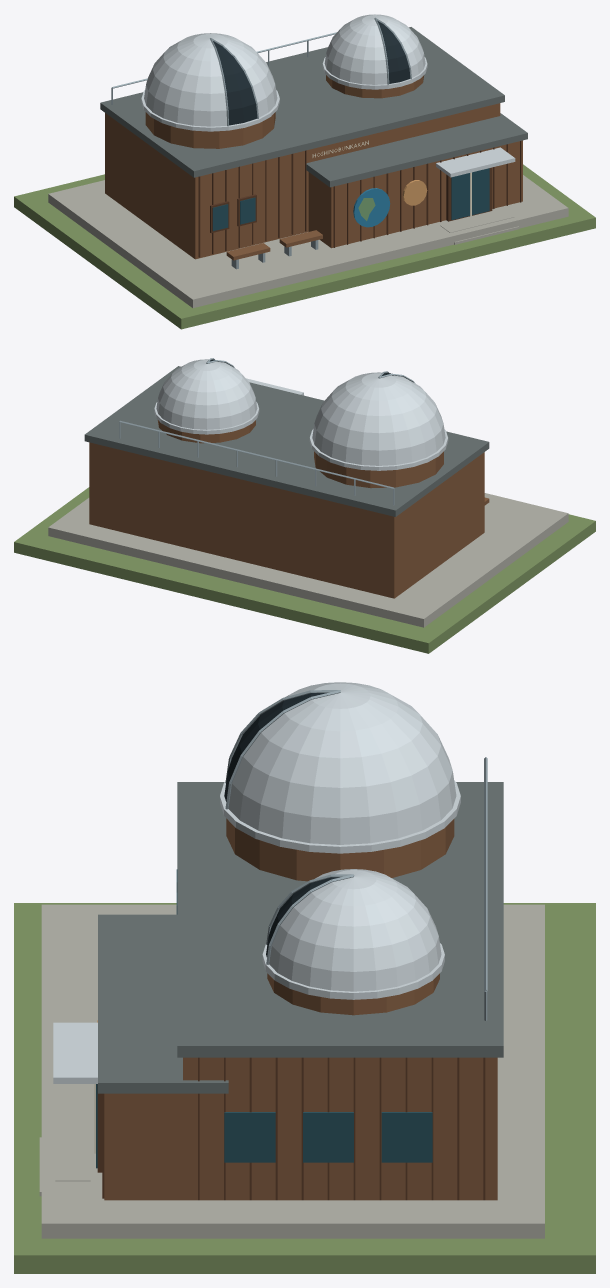
The picture shows the model from 3 angles, top to bottom: view 1: azimuth 30°, elevation 25°; view 2: azimuth 150°, elevation 25°; view 3: azimuth 270°, elevation 25°; orthographic projection. The views are drawn at different scales.
Parts seen in each view (by area): view 1: hoshinobunkakan-observatory; view 2: hoshinobunkakan-observatory; view 3: hoshinobunkakan-observatory.
Part boxes in pixels (x1=…): hoshinobunkakan-observatory: x1=14, y1=14, x2=595, y2=329; hoshinobunkakan-observatory: x1=14, y1=358, x2=595, y2=653; hoshinobunkakan-observatory: x1=14, y1=682, x2=595, y2=1273.
Size of the model in its own units: 10.6 by 4.72 by 7.4.
